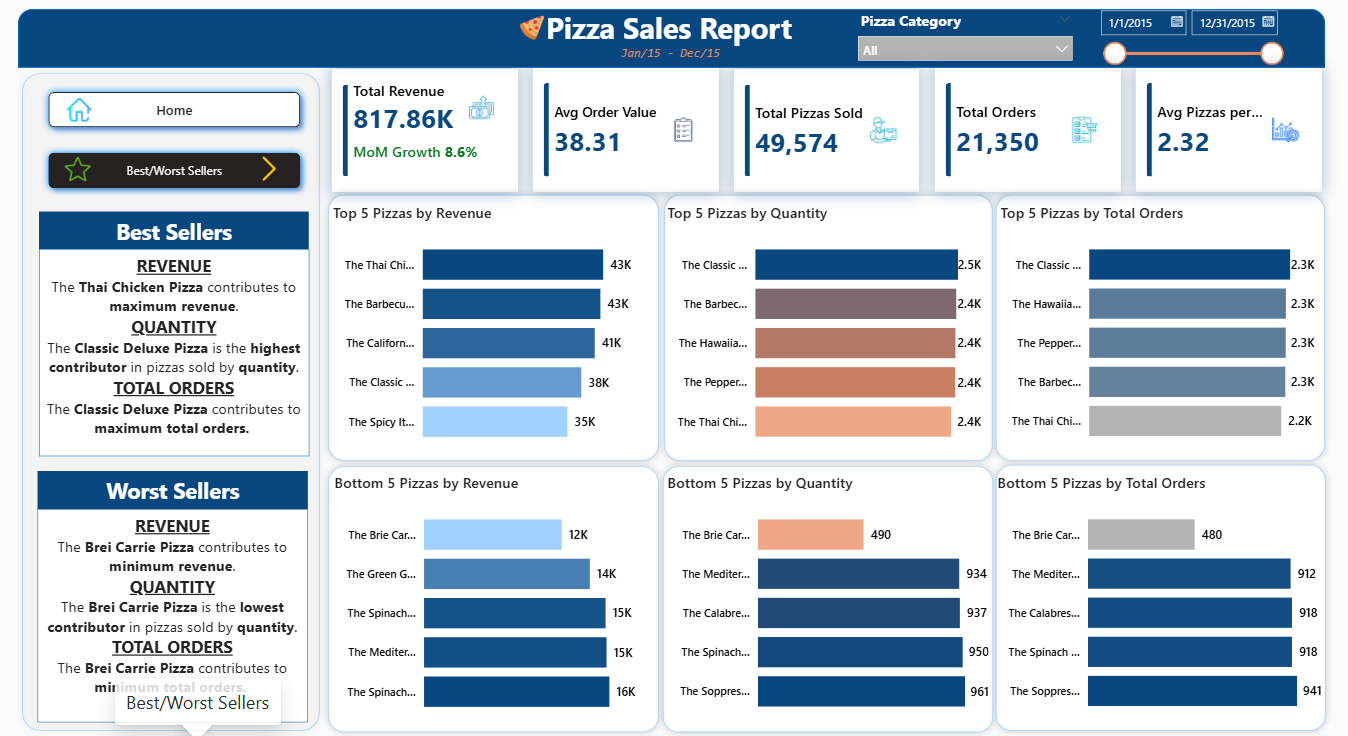

The page's visual inventory and layout, read from the dashboard file:
{"tool":"powerbi","page":{"name":"Best/Worst Sellers","canvas":[1500,820],"ordinal":1},"visuals":[{"type":"shape","box":[23,9.6,1450.5,65.1],"z":0},{"type":"textbox","box":[604.5,3.4,287.6,55.1],"z":1000},{"type":"image","box":[554.4,16.7,78.9,27.8],"z":2000},{"type":"textbox","box":[687,44,122.5,30.6],"z":3000},{"type":"shape","box":[20.7,74.1,346.1,745.7],"z":4000},{"type":"shape","box":[359.5,208.1,382.8,311.3],"z":5000},{"type":"shape","box":[730,508.6,382.9,311.4],"z":6000},{"type":"shape","box":[1100.4,508,382.3,311.7],"z":7000},{"type":"shape","box":[359.5,508.7,382.8,311.3],"z":8000},{"type":"textbox","box":[46.5,234.2,299.6,43],"z":9000},{"type":"textbox","box":[47.1,276.9,300,230],"z":10000},{"type":"textbox","box":[45.7,564.9,300,237.1],"z":11000},{"type":"textbox","box":[45.7,522,300,42.9],"z":12000},{"type":"slicer","fields":{"Values":["pizza_sales.pizza_category"]},"box":[945.4,6.9,258.3,68.9],"z":13000},{"type":"slicer","fields":{"Values":["pizza_sales.order_date"]},"box":[1211,2.5,223.8,72.1],"z":14000},{"type":"shape","box":[731.9,208.4,380.6,311.7],"z":15000},{"type":"shape","box":[1100,208.8,381.2,311.2],"z":16000},{"type":"barChart","title":"Top 5 Pizzas by Revenue","fields":{"Category":["pizza_sales.pizza_name"],"Y":["pizza_sales.Total Revenue"]},"box":[368.3,225,363.3,283.3],"z":17000},{"type":"barChart","title":"Bottom 5 Pizzas by Revenue","fields":{"Category":["pizza_sales.pizza_name"],"Y":["pizza_sales.Total Revenue"]},"box":[370,525,363.3,283.3],"z":18000},{"type":"barChart","title":"Top 5 Pizzas by Quantity","fields":{"Category":["pizza_sales.pizza_name"],"Y":["pizza_sales.Total Pizzas Sold"]},"box":[738.6,223.9,357.8,283.2],"z":19000},{"type":"barChart","title":"Bottom 5 Pizzas by Quantity","fields":{"Category":["pizza_sales.pizza_name"],"Y":["pizza_sales.Total Pizzas Sold"]},"box":[739,524.3,366.2,283],"z":20000},{"type":"barChart","title":"Top 5 Pizzas by Total Orders","fields":{"Category":["pizza_sales.pizza_name"],"Y":["pizza_sales.Total Orders"]},"box":[1109.3,225.2,358.1,282.4],"z":21000},{"type":"barChart","title":"Bottom 5 Pizzas by Total Orders","fields":{"Category":["pizza_sales.pizza_name"],"Y":["pizza_sales.Total Orders"]},"box":[1105.6,524.2,369.2,282.4],"z":22000},{"type":"pageNavigator","box":[48.6,92.9,297.1,125.7],"z":23000},{"type":"image","box":[284.5,173.6,34.5,28.2],"z":24000},{"type":"image","box":[75.5,108.2,32.7,27.3],"z":25000},{"type":"image","box":[75.5,169.1,29.1,35.5],"z":26000},{"type":"cardVisual","fields":{"Data":["pizza_sales.Total Revenue"]},"box":[371.1,76.7,206.7,136.7],"z":27000},{"type":"cardVisual","fields":{"Data":["pizza_sales.Avg Order Value"]},"box":[594.4,75.6,206.7,138.9],"z":28000},{"type":"cardVisual","fields":{"Data":["pizza_sales.Total Pizzas Sold"]},"box":[817.8,76.7,205.6,136.7],"z":29000},{"type":"cardVisual","fields":{"Data":["pizza_sales.Total Orders"]},"box":[1041.1,75.6,206.7,138.9],"z":30000},{"type":"cardVisual","fields":{"Data":["pizza_sales.Avg Pizzas per Order"]},"box":[1263.3,74.4,206.7,138.9],"z":31000}]}

Visuals, with their boxes in screenshot pixels (x1, y1, x2, y2), scaled from the page's 1500x820 canvas onto the 1348x736 screenshot:
shape: detection(21, 9, 1324, 67)
textbox: detection(543, 3, 802, 53)
image: detection(498, 15, 569, 40)
textbox: detection(617, 39, 727, 67)
shape: detection(19, 67, 330, 735)
shape: detection(323, 187, 667, 466)
shape: detection(656, 456, 1000, 735)
shape: detection(989, 456, 1332, 735)
shape: detection(323, 457, 667, 735)
textbox: detection(42, 210, 311, 249)
textbox: detection(42, 249, 312, 455)
textbox: detection(41, 507, 311, 720)
textbox: detection(41, 469, 311, 507)
slicer - pizza_sales.pizza_category: detection(850, 6, 1082, 68)
slicer - pizza_sales.order_date: detection(1088, 2, 1289, 67)
shape: detection(658, 187, 1000, 467)
shape: detection(989, 187, 1331, 467)
"Top 5 Pizzas by Revenue" barChart: detection(331, 202, 657, 456)
"Bottom 5 Pizzas by Revenue" barChart: detection(333, 471, 659, 725)
"Top 5 Pizzas by Quantity" barChart: detection(664, 201, 985, 455)
"Bottom 5 Pizzas by Quantity" barChart: detection(664, 471, 993, 725)
"Top 5 Pizzas by Total Orders" barChart: detection(997, 202, 1319, 456)
"Bottom 5 Pizzas by Total Orders" barChart: detection(994, 471, 1325, 724)
pageNavigator: detection(44, 83, 311, 196)
image: detection(256, 156, 287, 181)
image: detection(68, 97, 97, 122)
image: detection(68, 152, 94, 184)
cardVisual - pizza_sales.Total Revenue: detection(333, 69, 519, 192)
cardVisual - pizza_sales.Avg Order Value: detection(534, 68, 720, 193)
cardVisual - pizza_sales.Total Pizzas Sold: detection(735, 69, 920, 192)
cardVisual - pizza_sales.Total Orders: detection(936, 68, 1121, 193)
cardVisual - pizza_sales.Avg Pizzas per Order: detection(1135, 67, 1321, 191)
